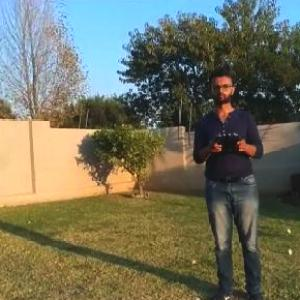follow: (187, 62, 276, 299)
